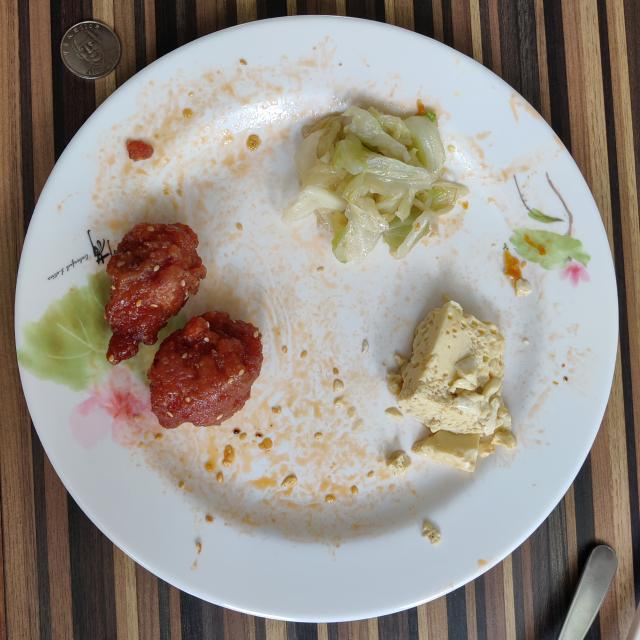cabbage: (281, 100, 469, 264)
coin: (60, 21, 121, 79)
